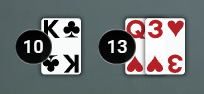3: (142, 13, 167, 44)
k: (37, 15, 63, 41)
q: (122, 15, 148, 44)
